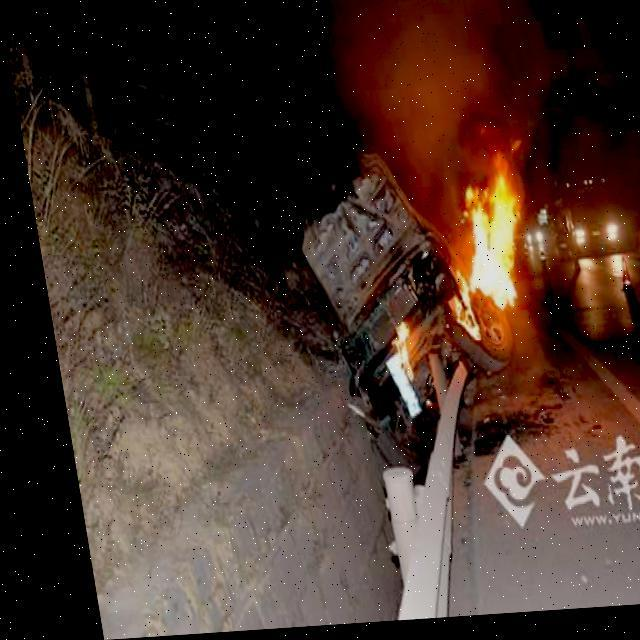Fire: (433, 168, 533, 332), (376, 323, 408, 363)
